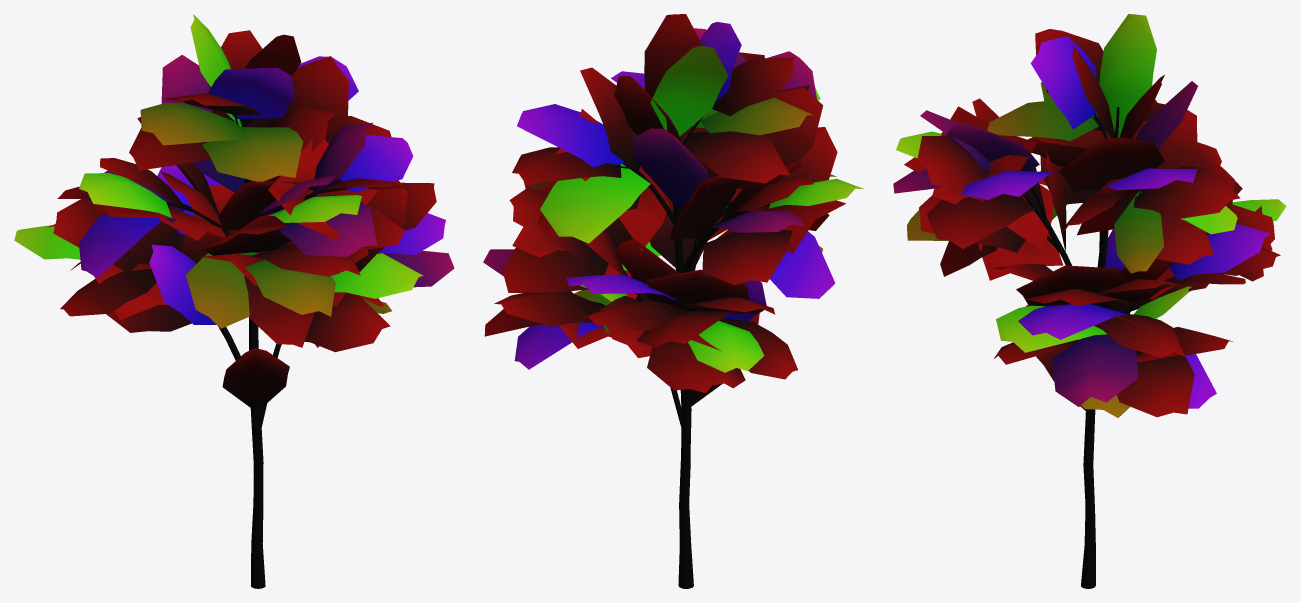
File: Stree_var1.fbx
The picture shows the model from 3 angles, left to right: view 1: azimuth 30°, elevation 25°; view 2: azimuth 150°, elevation 25°; view 3: azimuth 270°, elevation 25°; orthographic projection. The views are drawn at different scales.
Parts seen in each view (by area): view 1: STree_var1_LOD0; view 2: STree_var1_LOD0; view 3: STree_var1_LOD0.
Boxes of the visible parts, x1=… form: STree_var1_LOD0: x1=14, y1=14, x2=454, y2=588; STree_var1_LOD0: x1=483, y1=14, x2=864, y2=588; STree_var1_LOD0: x1=893, y1=14, x2=1286, y2=588.
Size of what is drawn, in the model's own units: 22.9 by 33.79 by 21.79.
